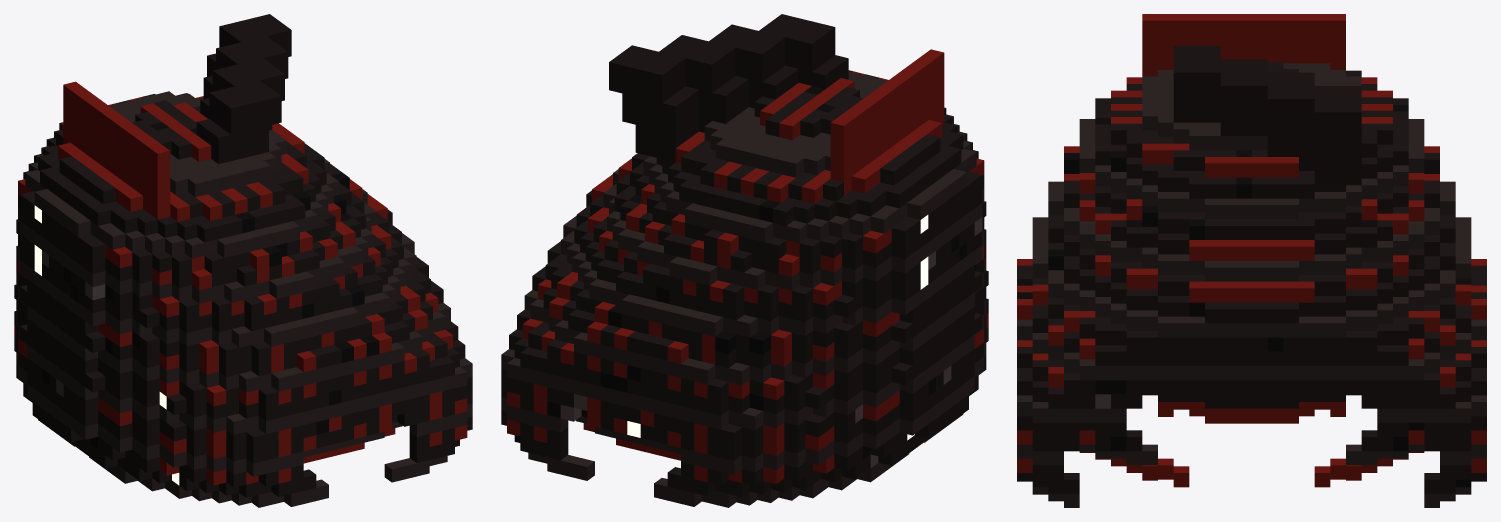
File: scale_masterwork_shoulder_L.glb
3 renders of one model, left to right at view 1: azimuth 30°, elevation 25°; view 2: azimuth 150°, elevation 25°; view 3: azimuth 270°, elevation 25°, orthographic. The views are drawn at different scales.
Visible parts, largest first — view 1: scale_masterwork_shoulder_L; view 2: scale_masterwork_shoulder_L; view 3: scale_masterwork_shoulder_L.
Part boxes in pixels (x1=…): scale_masterwork_shoulder_L: x1=14, y1=14, x2=472, y2=507; scale_masterwork_shoulder_L: x1=501, y1=14, x2=988, y2=507; scale_masterwork_shoulder_L: x1=1017, y1=14, x2=1486, y2=507.
Size of the model in its own units: 0.3 by 0.312 by 0.36.
